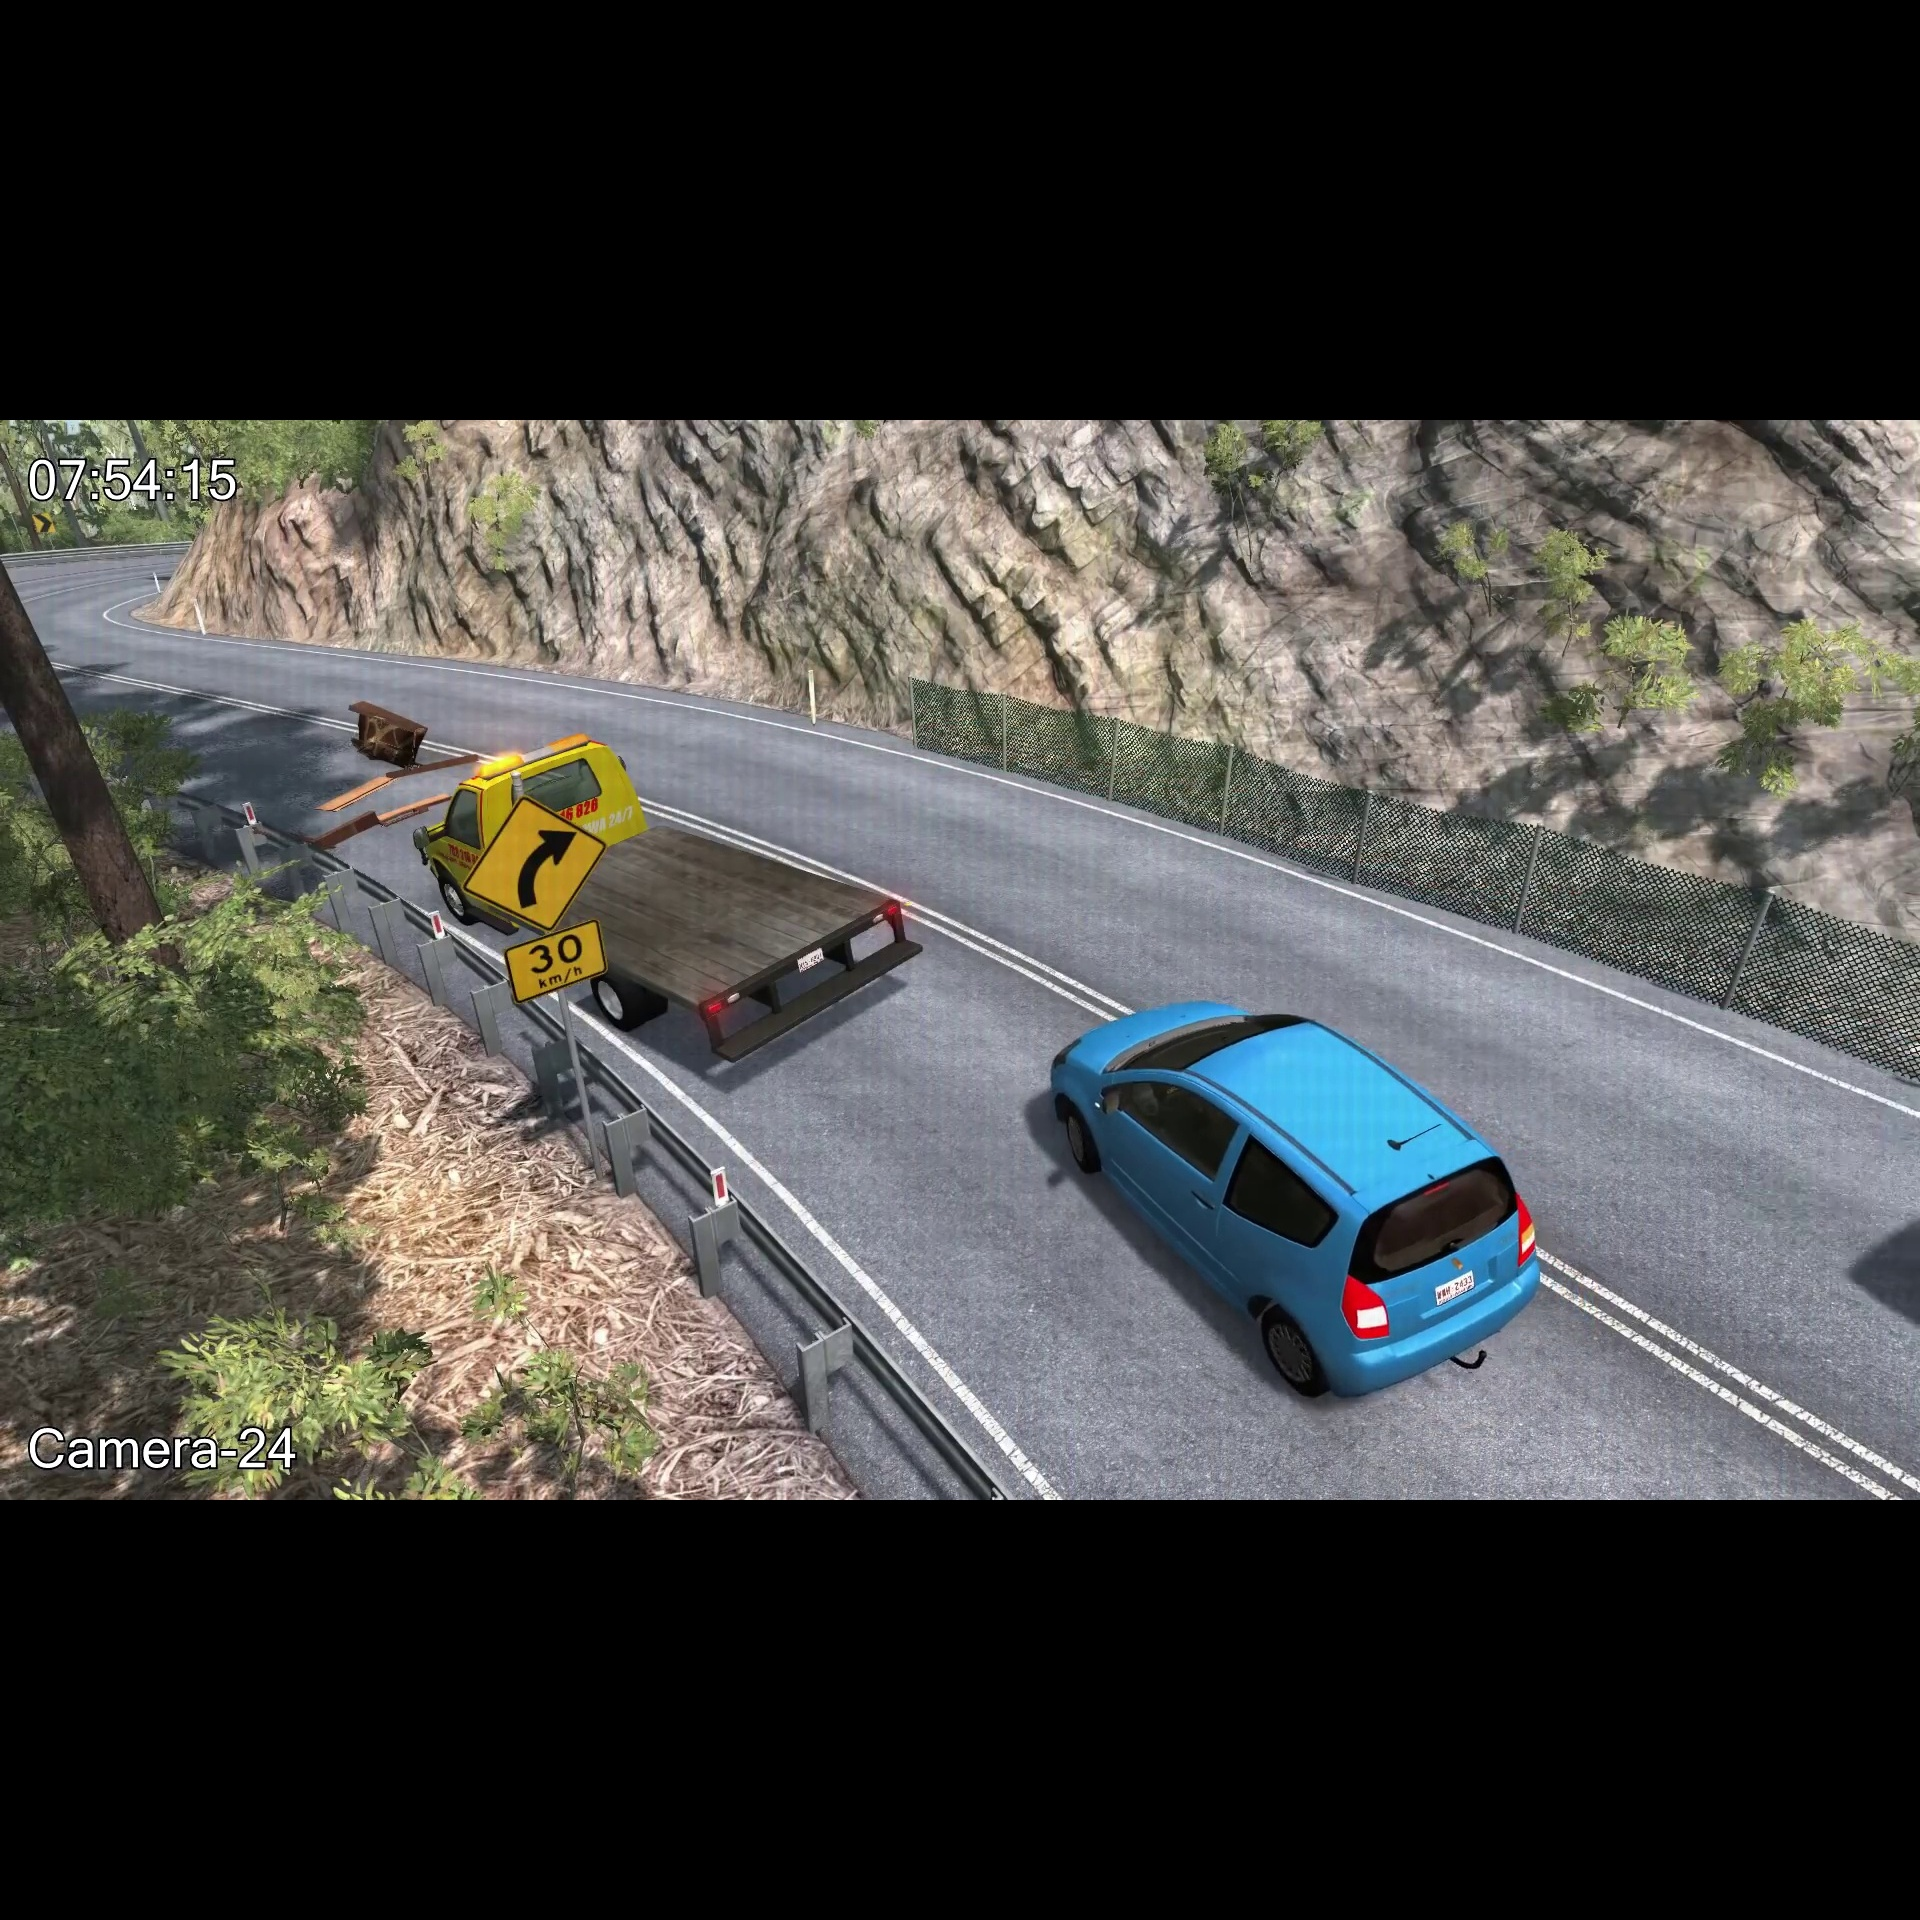vehicle: (1036, 964, 1547, 1412), (410, 724, 928, 1078)
